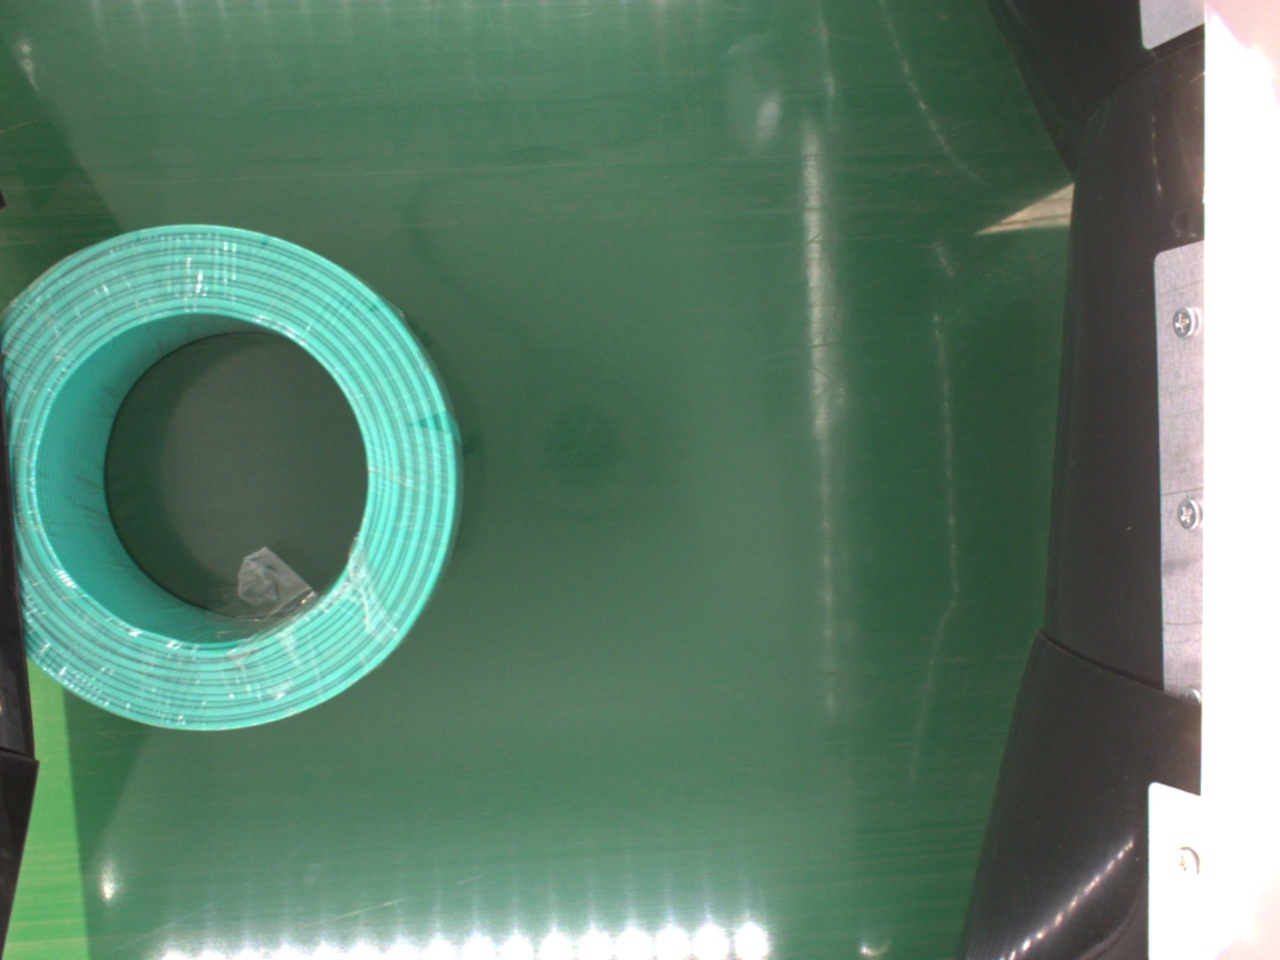green: (16, 219, 461, 730)
